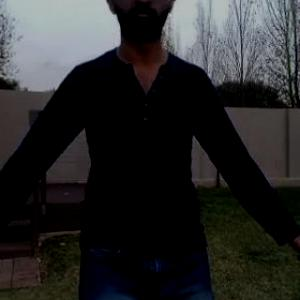land: (1, 0, 284, 299)
